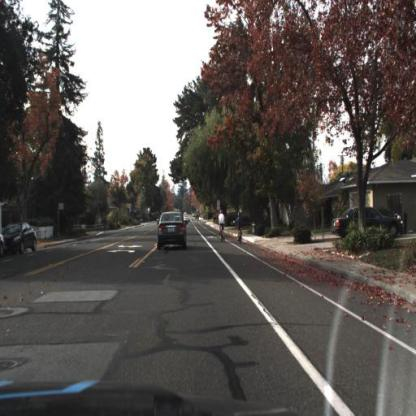biker: (218, 209, 228, 242), (236, 211, 244, 245)
car: (333, 206, 406, 242), (1, 223, 40, 258), (158, 211, 187, 252)
